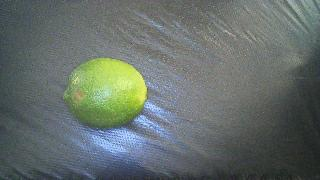DESECHO: (63, 58, 147, 128)
